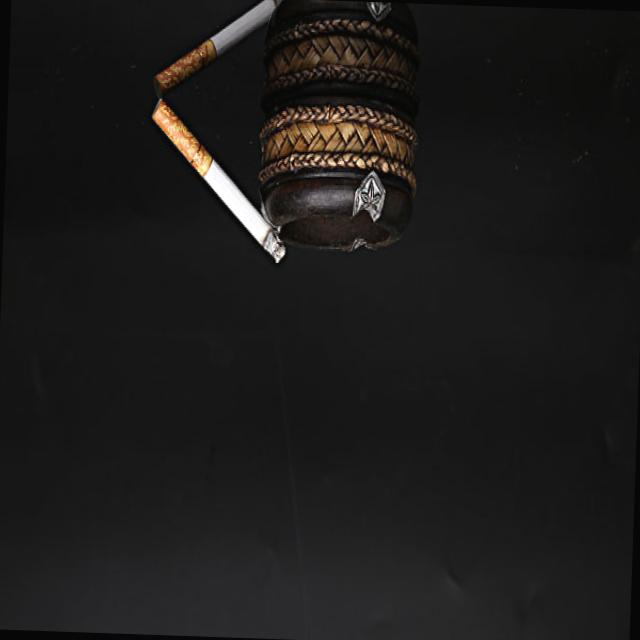cigarette: (146, 92, 288, 270)
